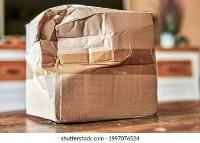undamaged: (19, 1, 160, 123)
